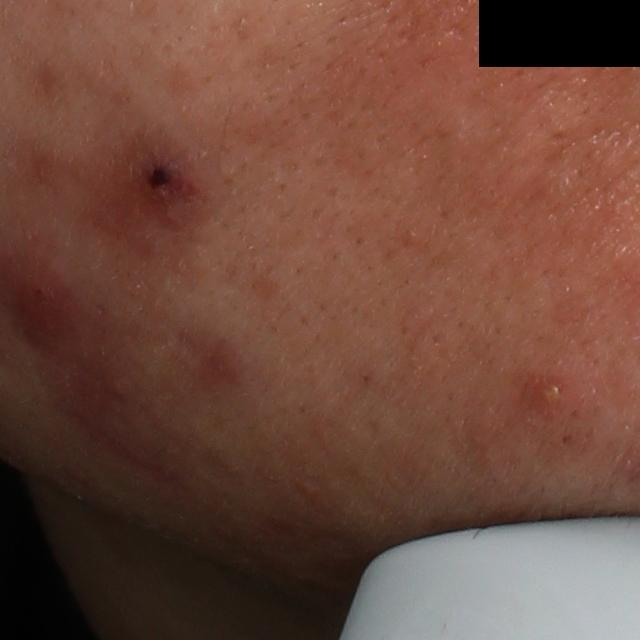papule: (132, 151, 192, 211)
pustule: (524, 374, 569, 414)
